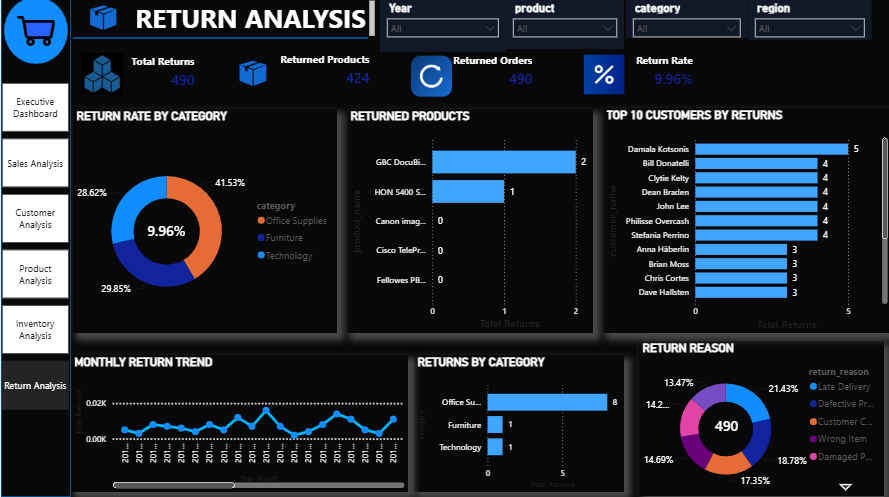

The dashboard page shown, as its layout file describes it:
{"tool":"powerbi","page":{"name":"Return Analysis","canvas":[1280,720],"ordinal":5},"visuals":[{"type":"slicer","fields":{"Values":["DimDate.Year"]},"box":[545.8,0,181.4,79.2],"z":0},{"type":"cardVisual","fields":{"Data":["public returns.Returned Products"]},"box":[329.8,59,230.4,99.4],"z":1000},{"type":"cardVisual","fields":{"Data":["public returns.Returned Orders"]},"box":[586.1,60.5,208.8,99.4],"z":2000},{"type":"cardVisual","fields":{"Data":["DimDate.Return Rate"]},"box":[812.2,60.5,213.1,99.4],"z":4000},{"type":"cardVisual","fields":{"Data":["DimDate.Total Returns"]},"box":[103.7,61.9,204.5,99.4],"z":5000},{"type":"slicer","fields":{"Values":["public orders.region"]},"box":[1075.1,0,178.1,62.2],"z":6000},{"type":"slicer","fields":{"Values":["public products.category"]},"box":[900.4,0,174.7,58.8],"z":7000},{"type":"slicer","fields":{"Values":["public products.product_name"]},"box":[727.2,0,169.9,74.9],"z":8000},{"type":"lineChart","title":"MONTHLY RETURN TREND","fields":{"Category":["DimDate.Year Month"],"Y":["DimDate.Total Returns"]},"box":[100.8,515.7,485.5,196.5],"z":10000},{"type":"donutChart","title":"RETURN RATE BY CATEGORY","fields":{"Category":["public products.category"],"Y":["DimDate.Return Rate"]},"box":[104.1,161.3,379.6,322.5],"z":11000},{"type":"clusteredBarChart","title":"RETURNED PRODUCTS","fields":{"Category":["public products.product_name"],"Y":["DimDate.Total Returns"]},"box":[498.9,161.3,354.4,322.5],"z":12000},{"type":"clusteredBarChart","title":"RETURNS BY CATEGORY","fields":{"Category":["public products.category"],"Y":["DimDate.Total Returns"]},"box":[594.6,515.7,302.4,196.5],"z":13000},{"type":"donutChart","title":"RETURN REASON","fields":{"Y":["DimDate.Total Returns"],"Category":["public returns.return_reason"]},"box":[918.8,495.5,352.8,223.4],"z":14000},{"type":"textbox","box":[102.2,0,440.6,74.9],"z":15000},{"type":"shape","box":[103.7,34.6,424.8,49],"z":16000},{"type":"shape","box":[0,0,100.8,720],"z":17000},{"type":"shape","box":[4.3,0,92.2,96.5],"z":19000},{"type":"image","box":[114.2,80.6,63.8,60.5],"z":26000},{"type":"image","box":[329.2,79,65.5,62.2],"z":27000},{"type":"image","box":[590.4,83.5,59,60.5],"z":30000},{"type":"image","box":[839.5,82.1,57.6,59],"z":31000},{"type":"image","box":[13,17.3,74.9,63.4],"z":32000},{"type":"pageNavigator","box":[1.4,123.8,96.5,472.3],"z":33000},{"type":"clusteredBarChart","title":"TOP 10 CUSTOMERS BY RETURNS","fields":{"Category":["public customers.customer_name"],"Y":["DimDate.Total Returns"]},"box":[866.8,159.6,414.9,324.2],"z":33002},{"type":"cardVisual","fields":{"Data":["DimDate.Return Rate"]},"box":[178.6,306.7,116.6,72],"z":33003},{"type":"cardVisual","fields":{"Data":["DimDate.Total Returns"]},"box":[993.6,586.1,102.2,73.4],"z":33004},{"type":"image","box":[104.1,0,87.3,60.5],"z":33005}]}

Visuals, with their boxes on the page's 1280x720 design canvas (x1, y1, x2, y2). These are canvas units, not pixel positions in the 889x497 screenshot, which may show the page scaled, cropped or inside an application window:
slicer - DimDate.Year: rect(546, 0, 727, 79)
cardVisual - public returns.Returned Products: rect(330, 59, 560, 158)
cardVisual - public returns.Returned Orders: rect(586, 60, 795, 160)
cardVisual - DimDate.Return Rate: rect(812, 60, 1025, 160)
cardVisual - DimDate.Total Returns: rect(104, 62, 308, 161)
slicer - public orders.region: rect(1075, 0, 1253, 62)
slicer - public products.category: rect(900, 0, 1075, 59)
slicer - public products.product_name: rect(727, 0, 897, 75)
"MONTHLY RETURN TREND" lineChart: rect(101, 516, 586, 712)
"RETURN RATE BY CATEGORY" donutChart: rect(104, 161, 484, 484)
"RETURNED PRODUCTS" clusteredBarChart: rect(499, 161, 853, 484)
"RETURNS BY CATEGORY" clusteredBarChart: rect(595, 516, 897, 712)
"RETURN REASON" donutChart: rect(919, 496, 1272, 719)
textbox: rect(102, 0, 543, 75)
shape: rect(104, 35, 528, 84)
shape: rect(0, 0, 101, 720)
shape: rect(4, 0, 96, 96)
image: rect(114, 81, 178, 141)
image: rect(329, 79, 395, 141)
image: rect(590, 84, 649, 144)
image: rect(840, 82, 897, 141)
image: rect(13, 17, 88, 81)
pageNavigator: rect(1, 124, 98, 596)
"TOP 10 CUSTOMERS BY RETURNS" clusteredBarChart: rect(867, 160, 1282, 484)
cardVisual - DimDate.Return Rate: rect(179, 307, 295, 379)
cardVisual - DimDate.Total Returns: rect(994, 586, 1096, 660)
image: rect(104, 0, 191, 60)
